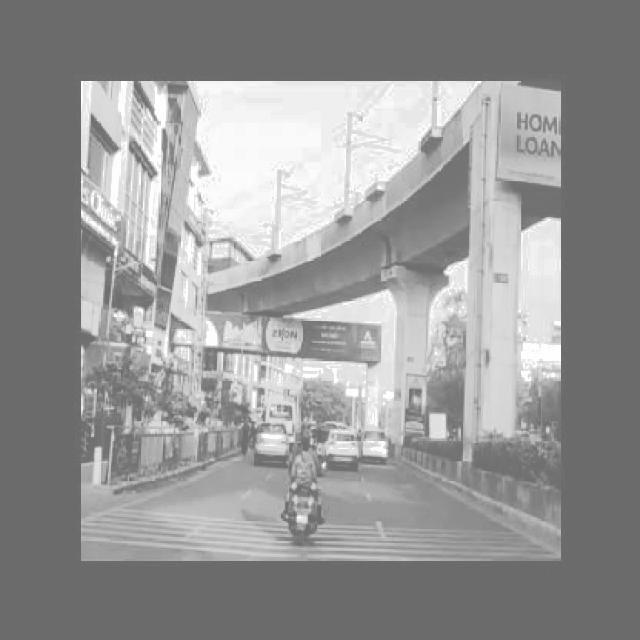Car: (250, 408, 298, 472), (322, 422, 366, 476), (361, 417, 394, 464)
